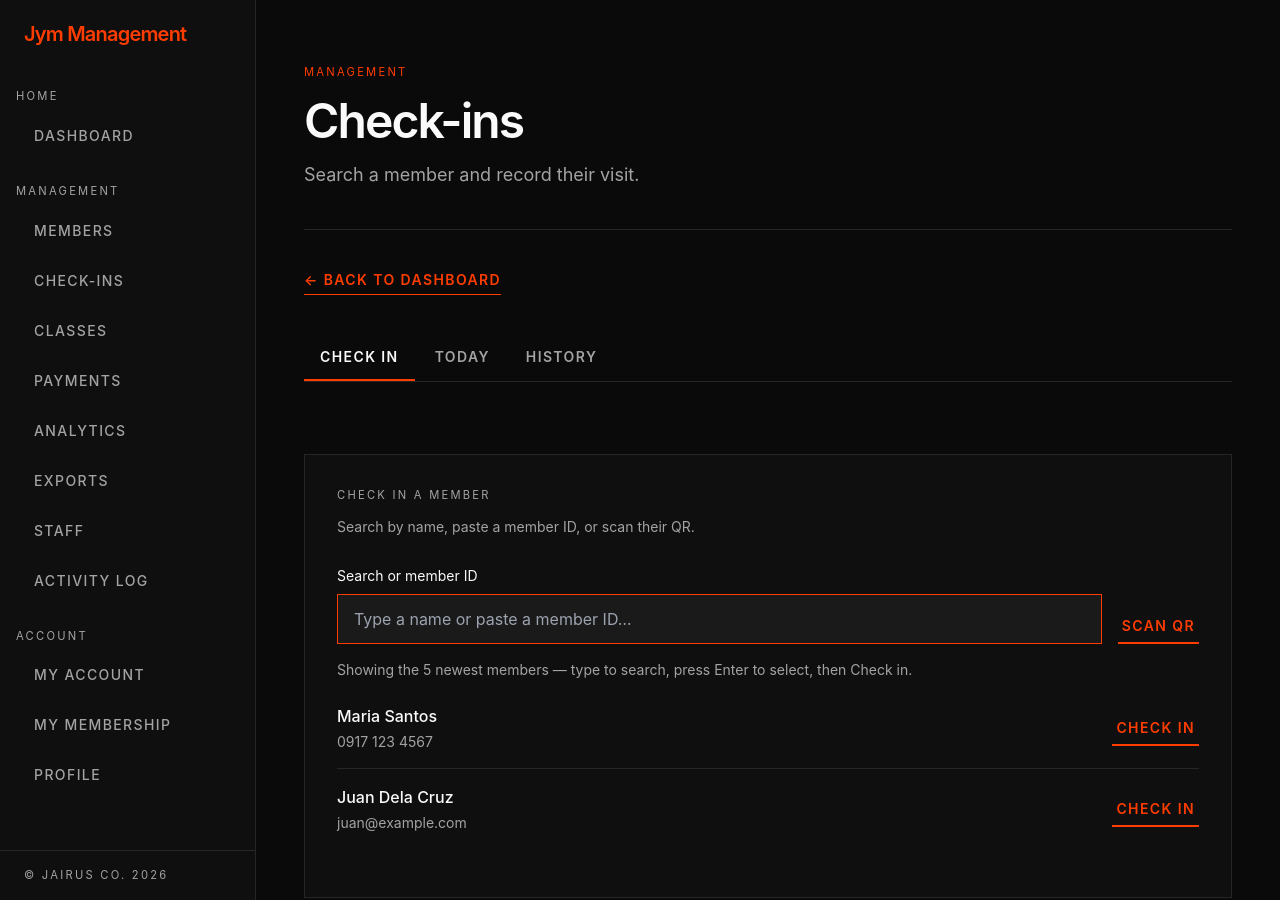
Test: CheckInsPage › checks in a member and lists them under today
Expected: the text "Juan Dela Cruz" is shown, [337, 785, 467, 809]
Click the button "Check in" in the row of "Maria Santos" at (1156, 728), box [1112, 710, 1199, 746]
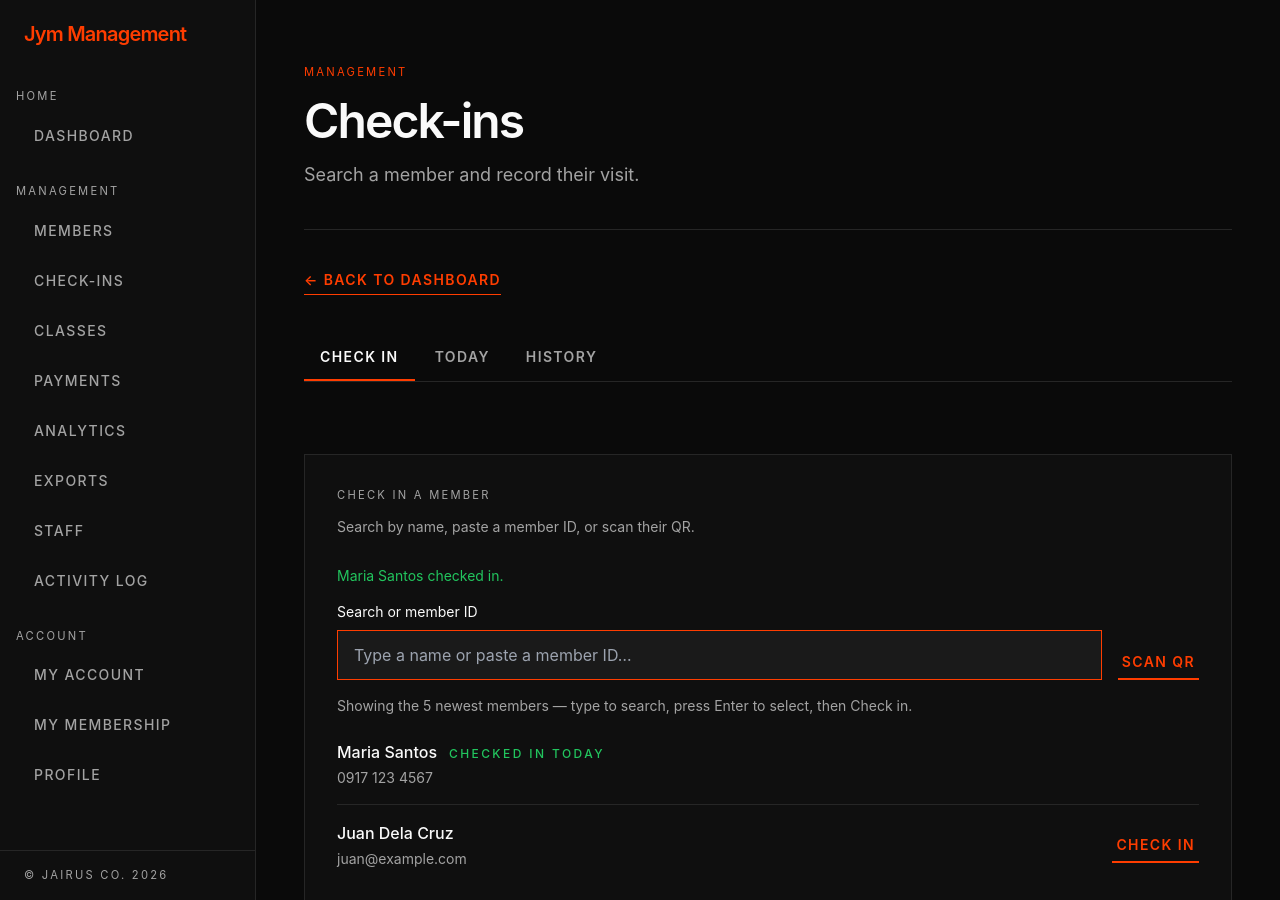
Now the text "Maria Santos checked in." is shown, box [337, 567, 504, 584]
Click the tab "Today" at (462, 358), box [419, 335, 506, 381]
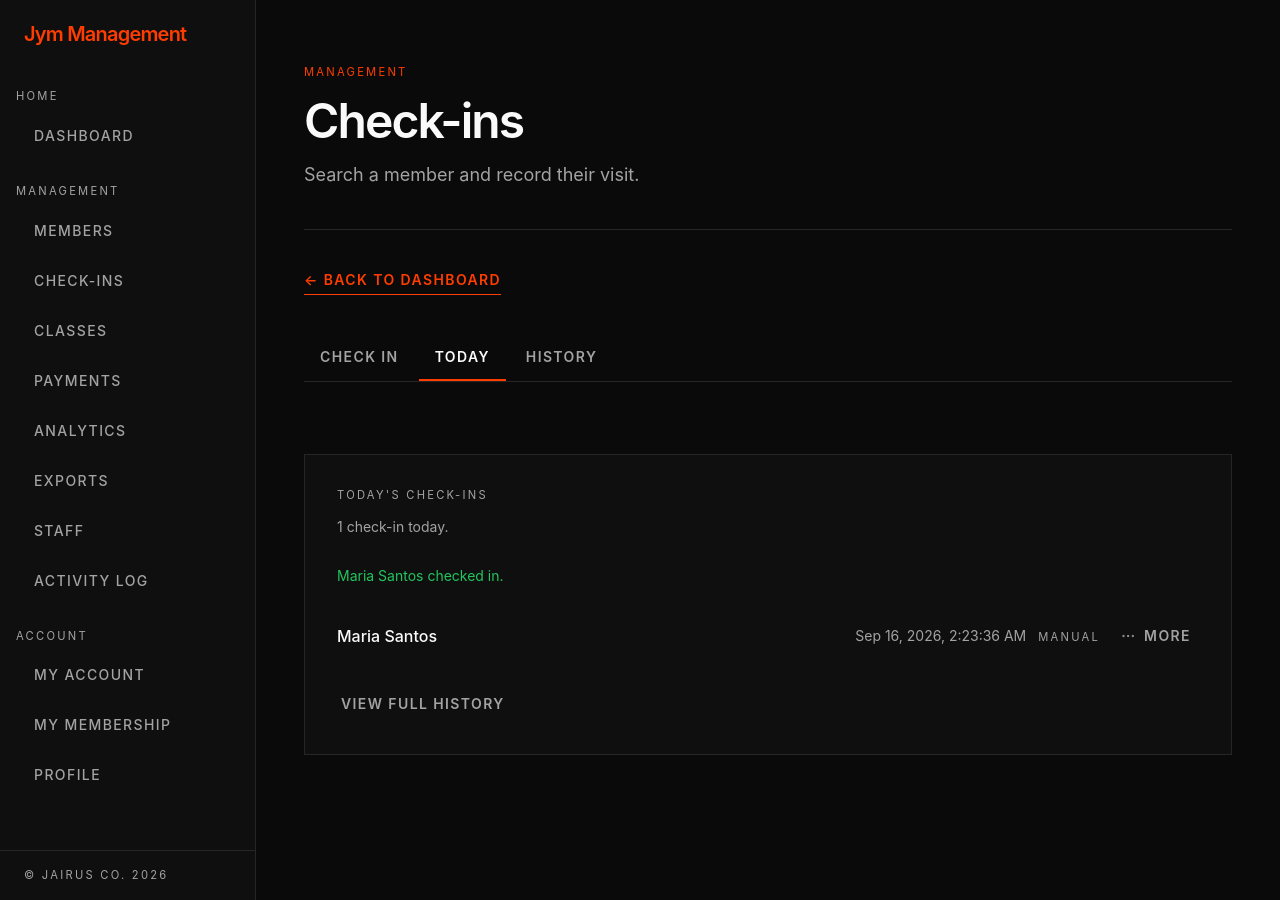
Expected: the text "Maria Santos" is shown, [337, 624, 437, 648]
Now the text "1 check-in today." is shown, box [337, 518, 448, 535]
Now the text "manual" is shown, box [1038, 630, 1100, 644]
